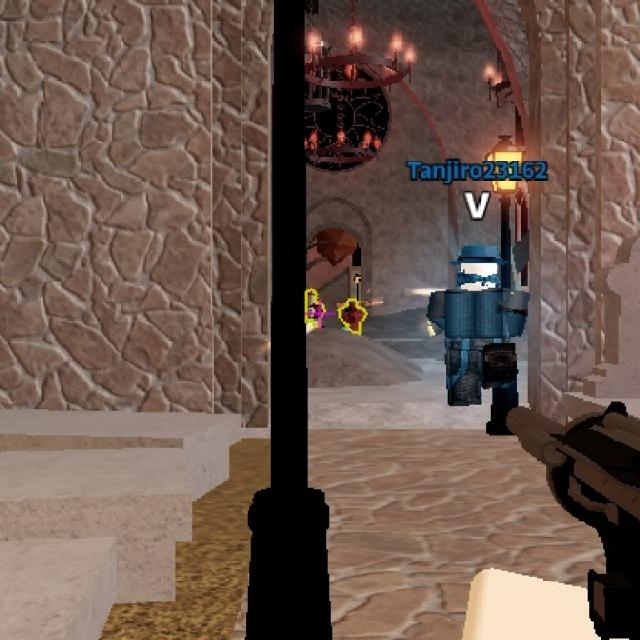player: (340, 299, 364, 333), (305, 292, 322, 329)
